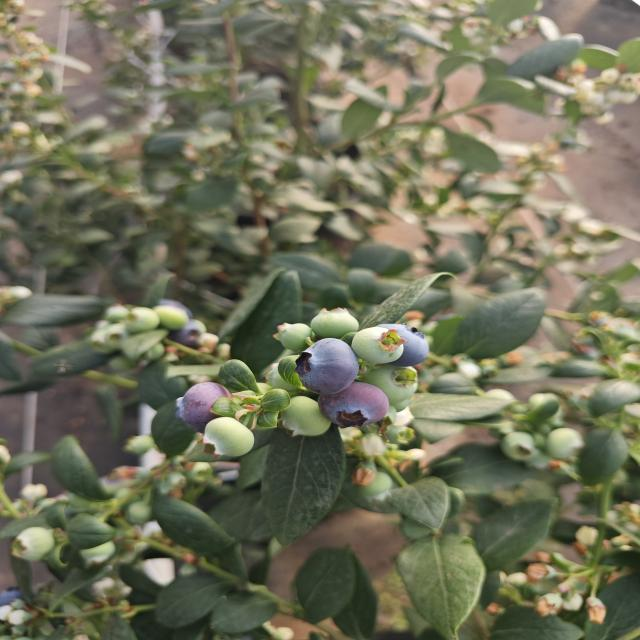ripe: (284, 334, 365, 394), (169, 379, 239, 437), (327, 387, 402, 433), (153, 296, 208, 350), (382, 318, 428, 362), (0, 583, 43, 628)
